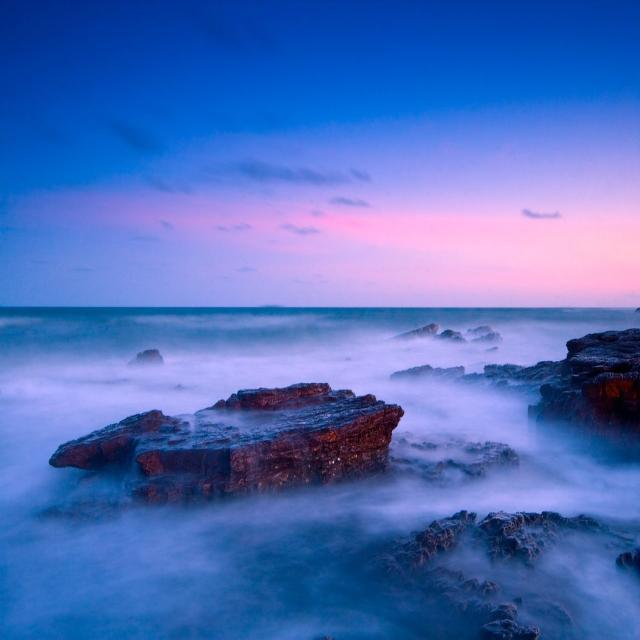reef: (50, 380, 417, 538)
